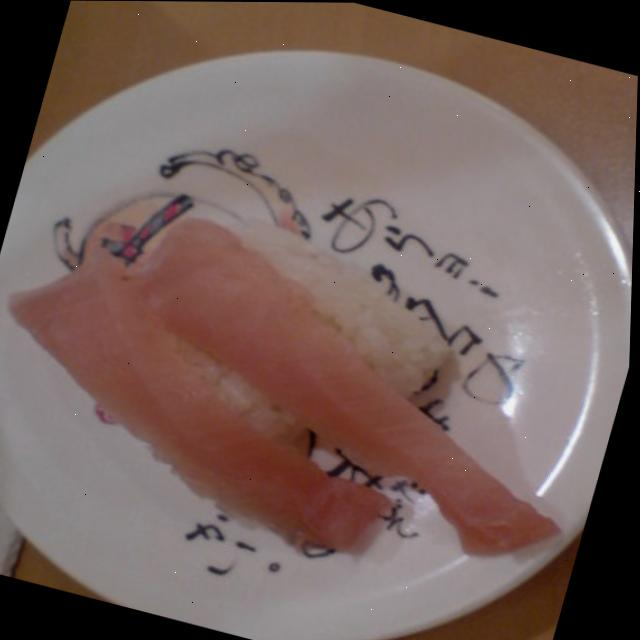寿司卷物: (75, 189, 628, 578), (0, 229, 442, 564)
